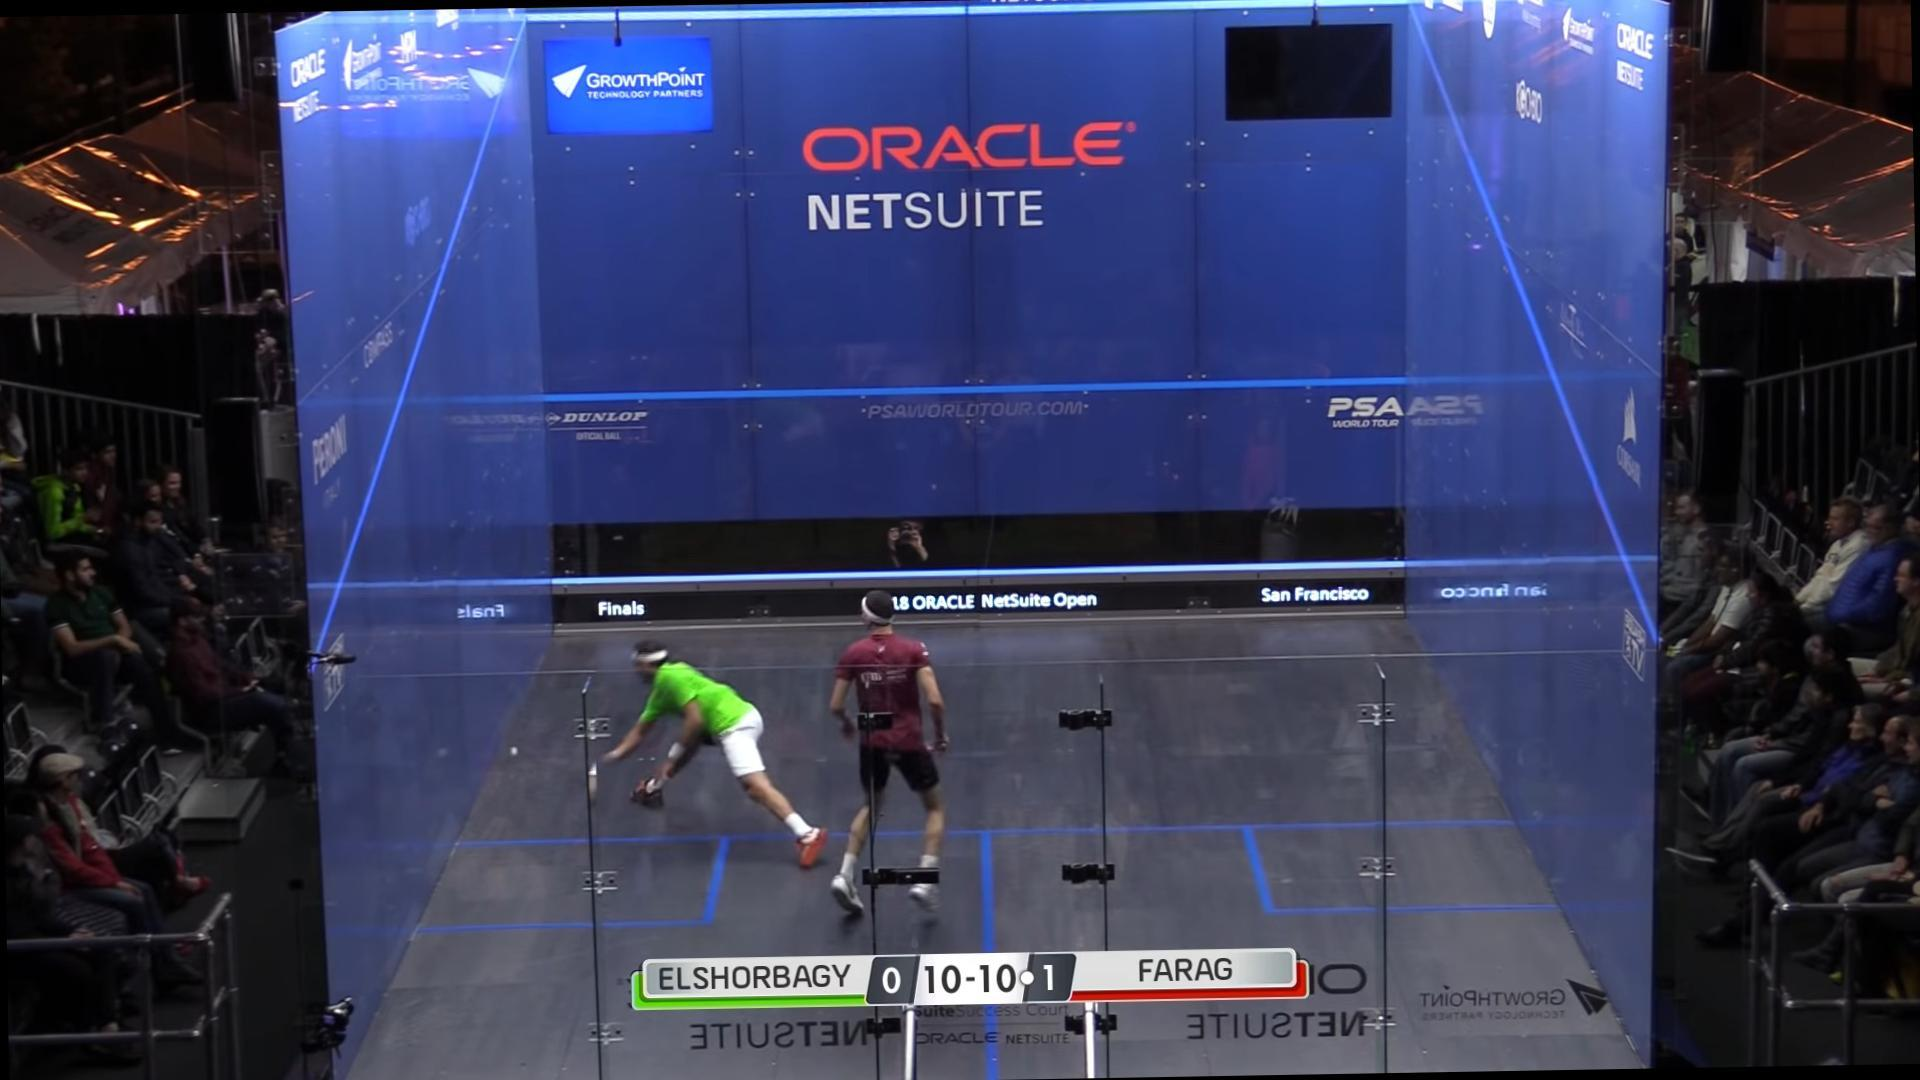Squash-Ball: (508, 741, 529, 760)
